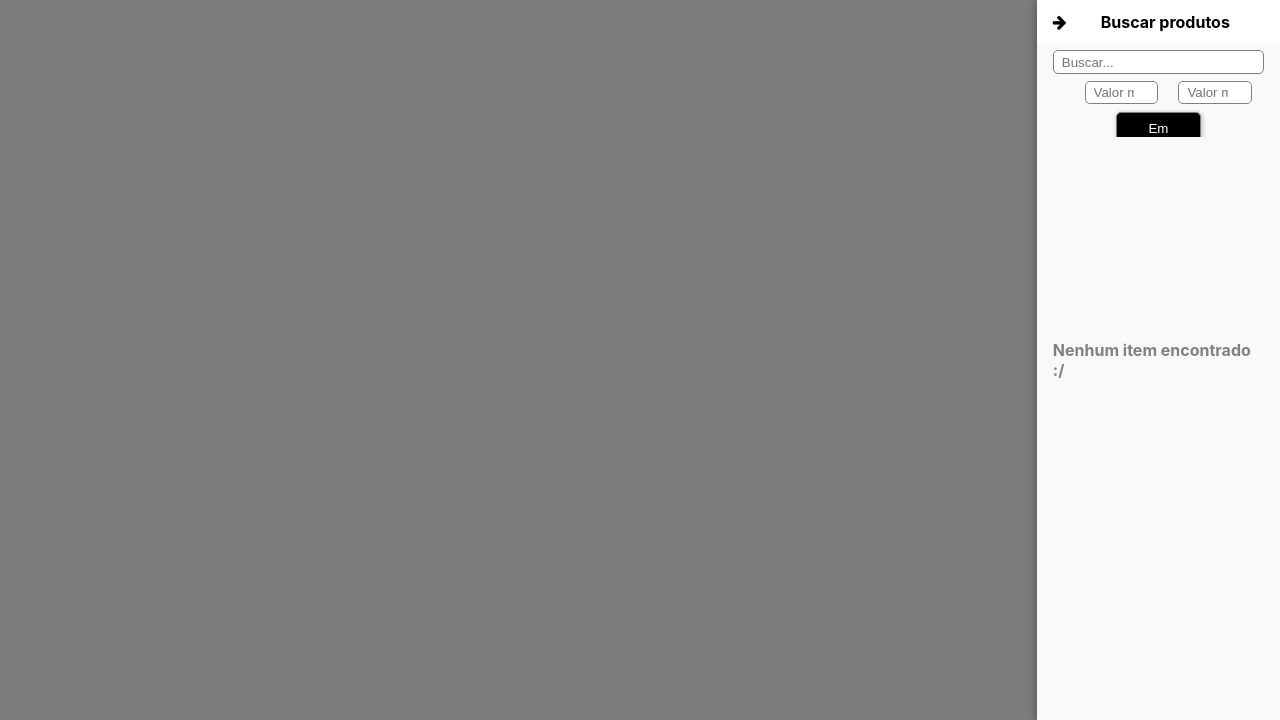
Test case: Search › should render INPUT correctly
This screenshot has width=1280, height=720.
In the field with test id "input": (1158, 62) [1053,50,1264,74], type "blusa"
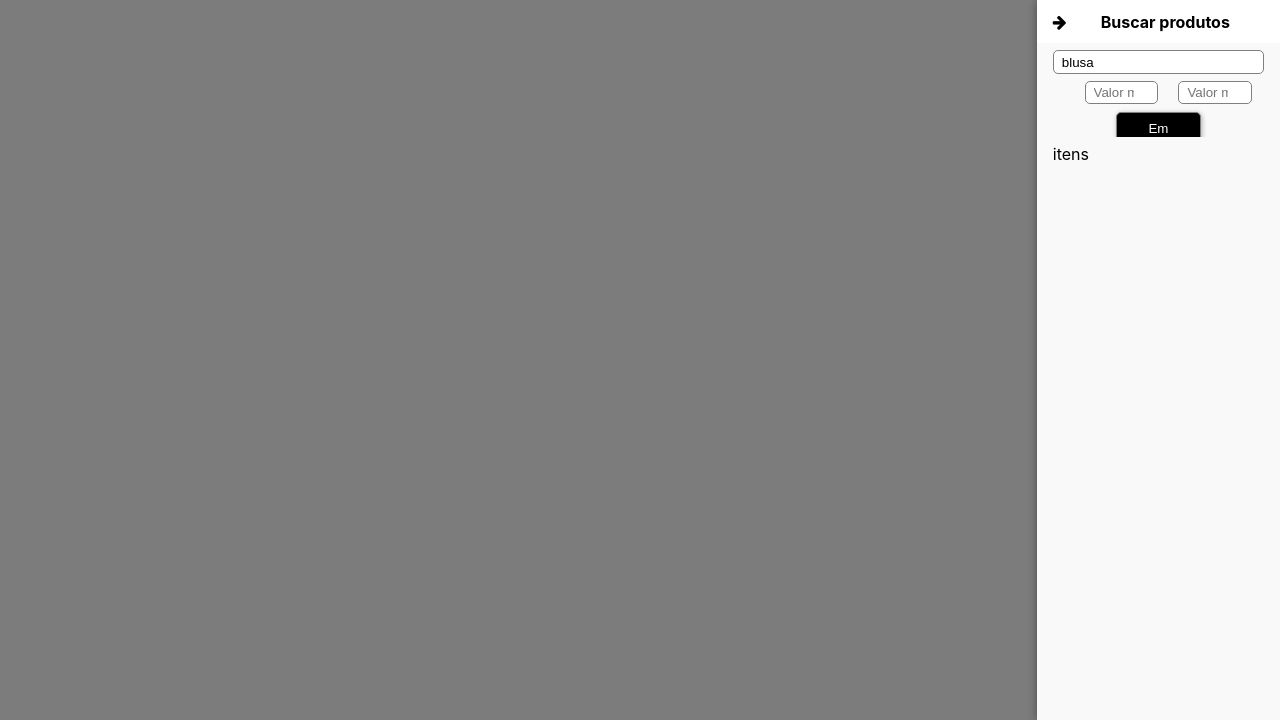
Check: the text with test id "search-any" reads "itens", box [1053,144,1089,164]
